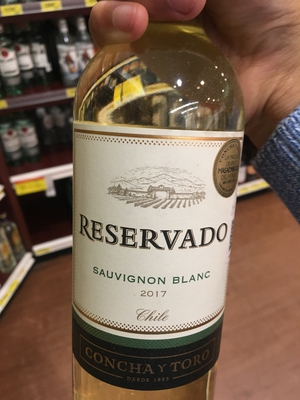reservado sauvignon blanc: (51, 30, 253, 400)
